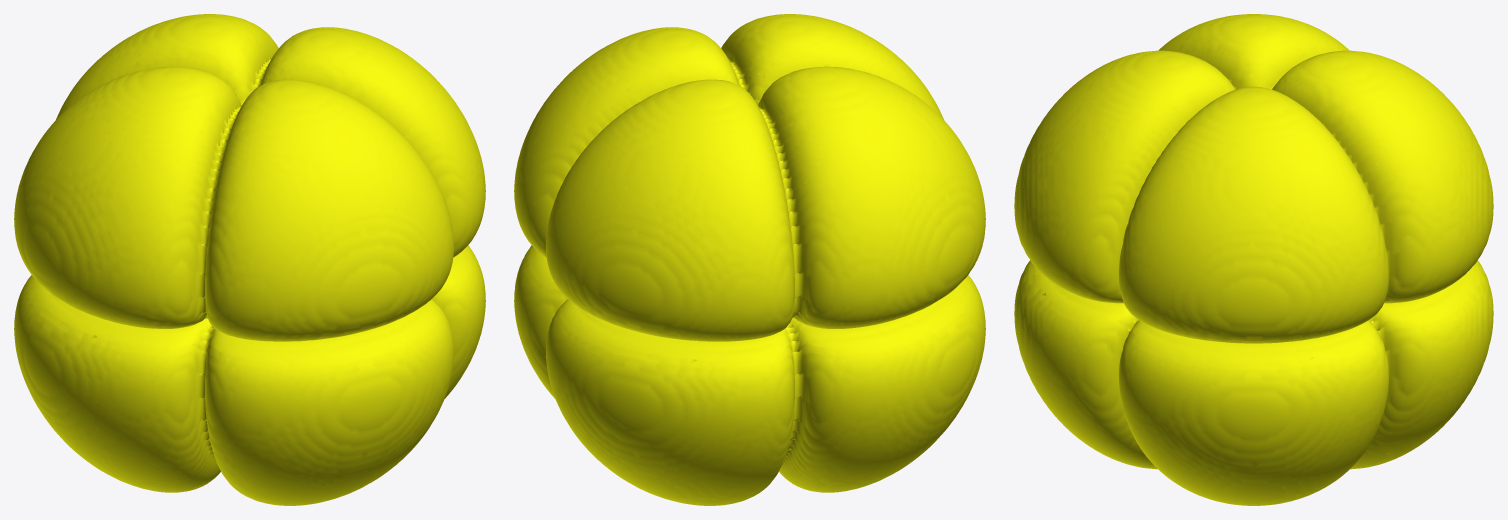
Rendered from orb_n=7_ l=3 _m=2.fbx.
3 renders of one model, left to right at view 1: azimuth 30°, elevation 25°; view 2: azimuth 150°, elevation 25°; view 3: azimuth 270°, elevation 25°, orthographic.
Parts seen in each view (by area): view 1: orb_n=7_ l=3 _m=2; view 2: orb_n=7_ l=3 _m=2; view 3: orb_n=7_ l=3 _m=2.
Part boxes in pixels (x1,y1,x2,y2): orb_n=7_ l=3 _m=2: (14, 14, 485, 505); orb_n=7_ l=3 _m=2: (514, 14, 985, 505); orb_n=7_ l=3 _m=2: (1014, 14, 1493, 505).
Bounding box in the file's own units: 29185 × 26807 × 29185.
